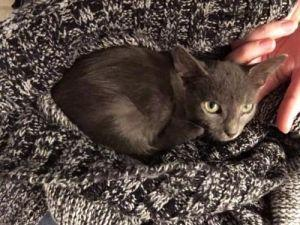rblue: (172, 40, 291, 149)
